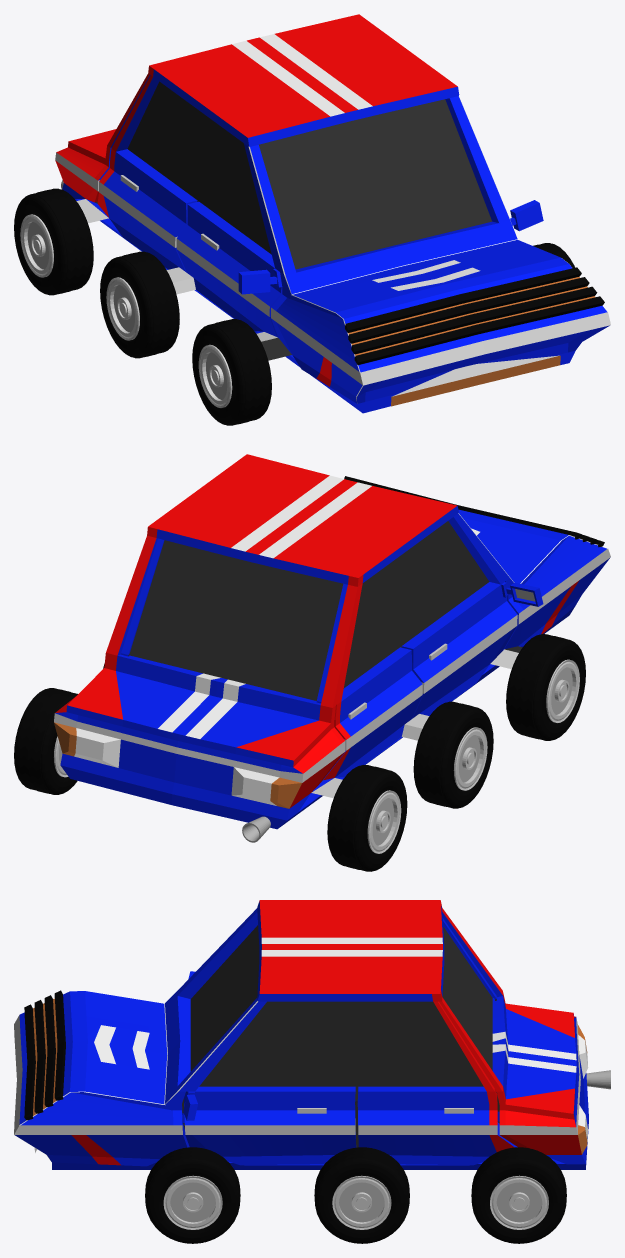
3 views of the same model, one above another, from view 1: azimuth 30°, elevation 25°; view 2: azimuth 150°, elevation 25°; view 3: azimuth 270°, elevation 25° (orthographic). The views are drawn at different scales.
Parts seen in each view (by area): view 1: BODY38A, WHEEL.004, WHEEL.005, WHEEL.001; view 2: BODY38A, WHEEL.005, WHEEL.004, WHEEL.001, WHEEL.002; view 3: BODY38A, WHEEL.006, WHEEL.002, WHEEL.003.
Boxes of the visible parts, x1,y1,x2,y2 form: BODY38A: (55,14,610,413); WHEEL.004: (14,188,93,295); WHEEL.005: (100,251,179,358); WHEEL.001: (192,319,271,425); BODY38A: (54,454,610,829); WHEEL.005: (413,701,493,808); WHEEL.004: (327,765,407,871); WHEEL.001: (506,634,585,740); WHEEL.002: (14,688,77,794); BODY38A: (14,900,588,1169); WHEEL.006: (314,1147,409,1243); WHEEL.002: (471,1147,566,1243); WHEEL.003: (145,1147,240,1243).
Bounding box in the file's own units: 151 × 100 × 245.
